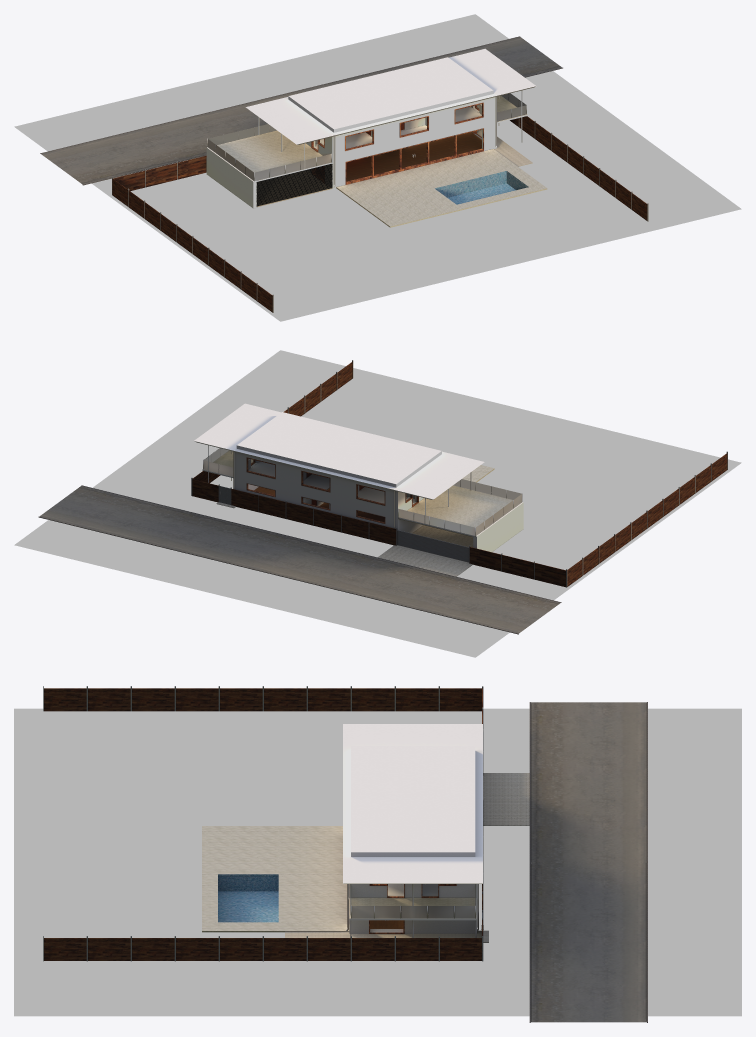
Rendered from house.gltf.
The picture shows the model from 3 angles, top to bottom: view 1: azimuth 30°, elevation 25°; view 2: azimuth 150°, elevation 25°; view 3: azimuth 270°, elevation 25°; orthographic projection. The views are drawn at different scales.
Visible parts, largest first — view 1: fuvestalaj, főfalak, Plane, Street2, kerites, földszint padlo.001, erkelykorlat2, lepcso; view 2: fuvestalaj, főfalak, Street2, kerites, erkelykorlat2, Plane, földszint padlo.001, lepcso; view 3: fuvestalaj, Street2, főfalak, kerites, Plane, erkelykorlat2, földszint padlo.001.
Part boxes in pixels (left/top/right/bottom): fuvestalaj: left=14, top=14, right=741, bottom=321; főfalak: left=206, top=48, right=536, bottom=208; Plane: left=189, top=129, right=547, bottom=227; Street2: left=40, top=36, right=562, bottom=185; kerites: left=112, top=116, right=648, bottom=312; földszint padlo.001: left=256, top=106, right=481, bottom=206; erkelykorlat2: left=207, top=90, right=527, bottom=187; lepcso: left=311, top=102, right=483, bottom=184; fuvestalaj: left=14, top=350, right=741, bottom=657; főfalak: left=194, top=403, right=523, bottom=552; Street2: left=38, top=485, right=561, bottom=634; kerites: left=191, top=360, right=727, bottom=587; erkelykorlat2: left=202, top=445, right=522, bottom=536; Plane: left=216, top=465, right=494, bottom=576; földszint padlo.001: left=248, top=461, right=414, bottom=522; lepcso: left=246, top=457, right=418, bottom=523; fuvestalaj: left=14, top=708, right=741, bottom=1016; Street2: left=529, top=702, right=647, bottom=1022; főfalak: left=343, top=724, right=482, bottom=933; kerites: left=43, top=686, right=483, bottom=961; Plane: left=202, top=773, right=529, bottom=942; erkelykorlat2: left=346, top=884, right=478, bottom=937; földszint padlo.001: left=370, top=884, right=438, bottom=928.
Size of the model in its own units: 35.36 by 4.94 by 33.98.
